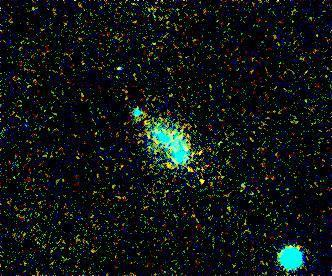star: (187, 165, 217, 195)
